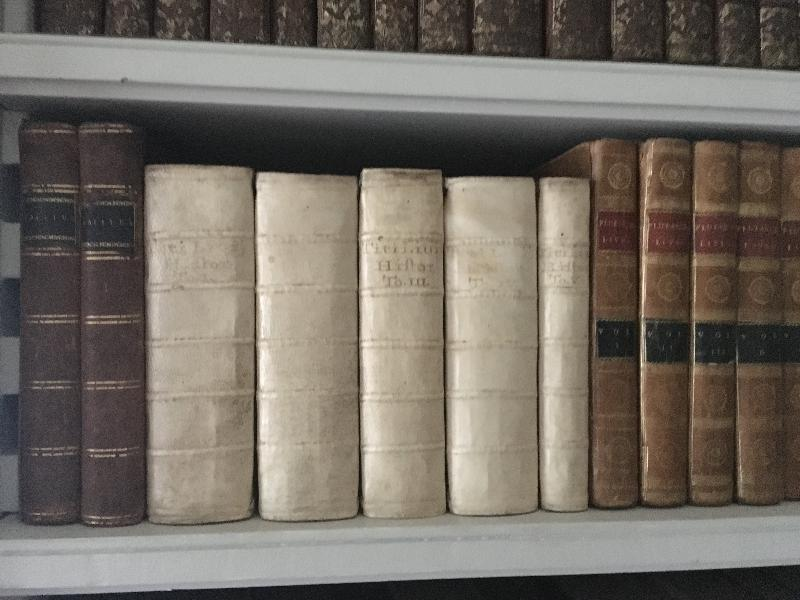Kk4-1_2: (17, 115, 140, 528)
Kk4-3_7: (143, 164, 597, 516)
Kk4-8_13: (593, 140, 800, 507)
